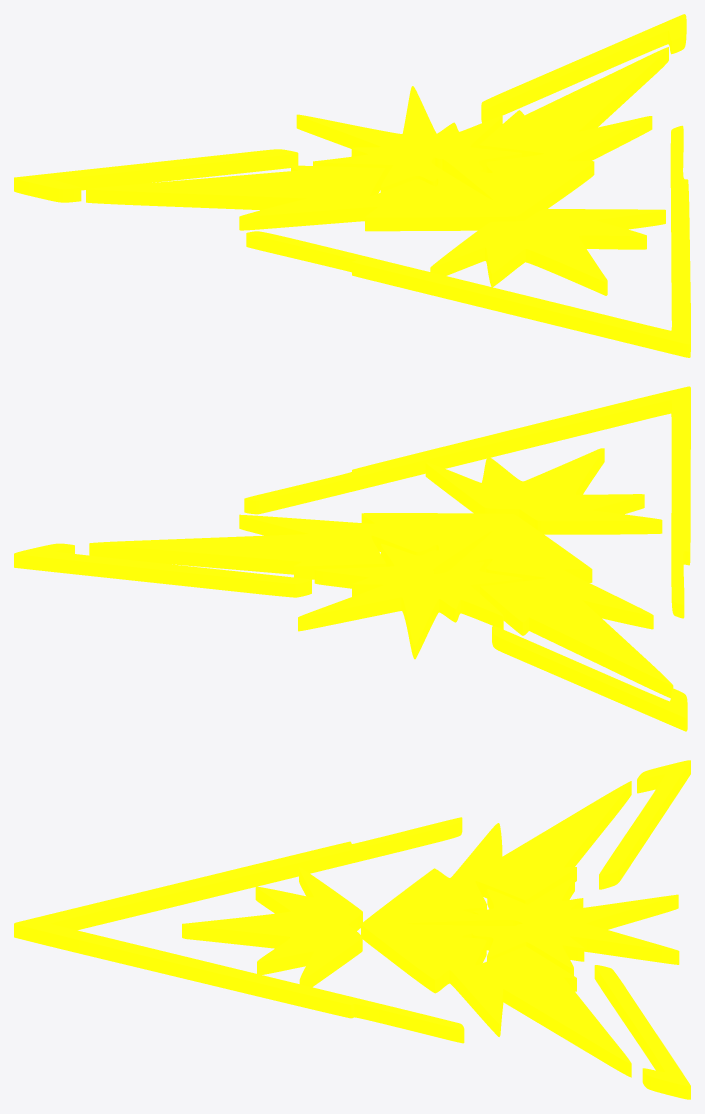
Rendered from ModelA.fbx.
The picture shows the model from 3 angles, top to bottom: view 1: azimuth 30°, elevation 25°; view 2: azimuth 150°, elevation 25°; view 3: azimuth 270°, elevation 25°; orthographic projection.
Parts seen in each view (by area): view 1: path1587; view 2: path1587; view 3: path1587.
Boxes of the visible parts, x1=… form: path1587: x1=14, y1=14, x2=690, y2=357; path1587: x1=14, y1=386, x2=690, y2=731; path1587: x1=14, y1=760, x2=690, y2=1099.
Bounding box in the file's own units: 104 × 2 × 91.2.
